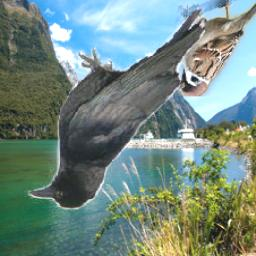Crow: (26, 8, 206, 210)
Sparrow: (176, 0, 256, 96)
